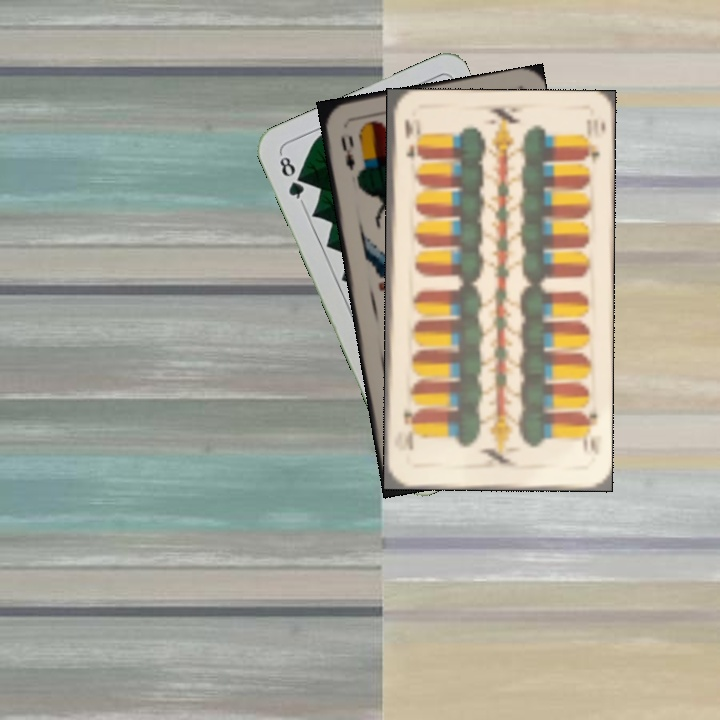E10: (577, 407, 601, 457), (400, 115, 420, 163)
EO: (337, 131, 358, 173)
G8: (275, 150, 307, 206)
